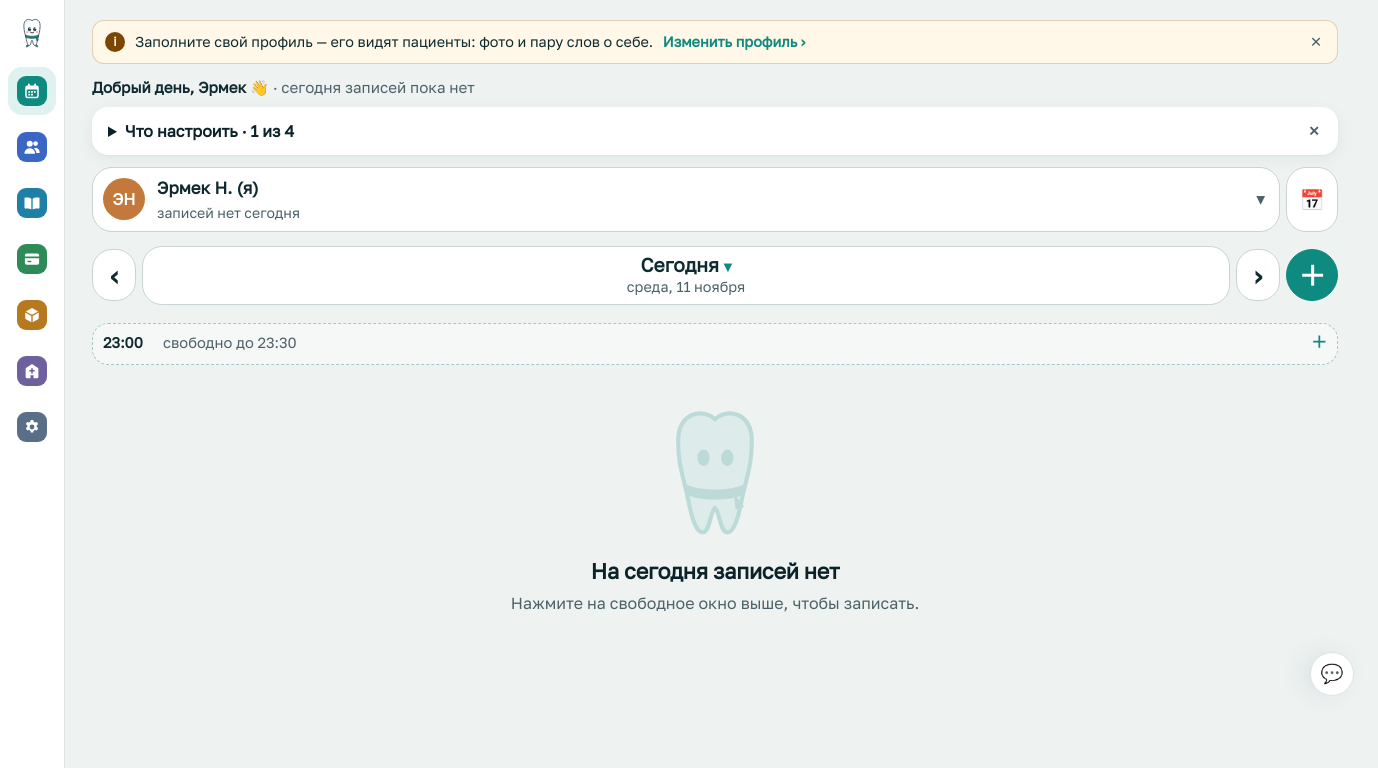
Test case: телефон: третий врач входит — его колонка первая, в выборе врача он тоже первый
Click the button with aria-label "Чьё расписание: Эрмек Н. (я)": click(124, 199) x1=92 y1=167 x2=1280 y2=232
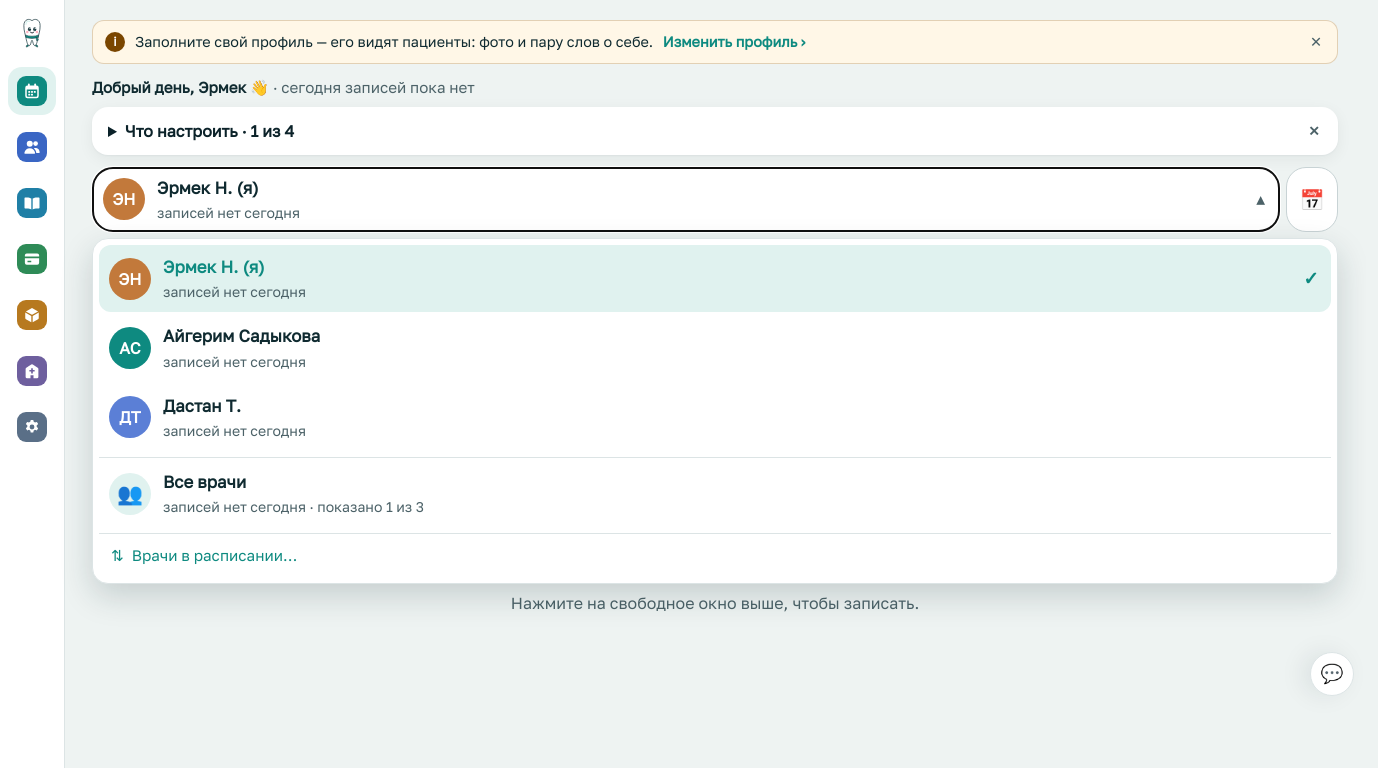
Click the option "👥 Все врачи записей нет сегодня · показано 1 из 3": click(130, 494) x1=99 y1=457 x2=1331 y2=527
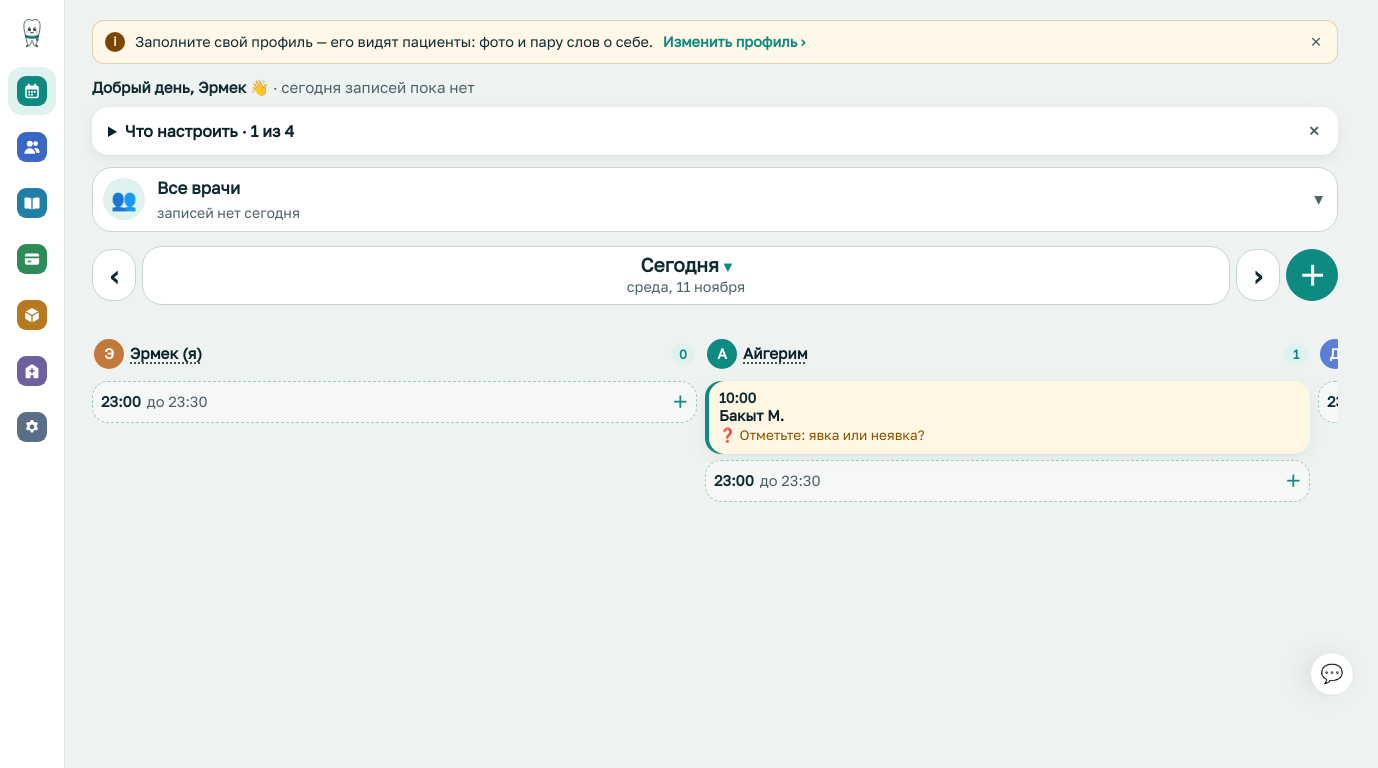
Check: the element named "Эрмек Н." is shown, box x1=92 y1=333 x2=697 y2=423
